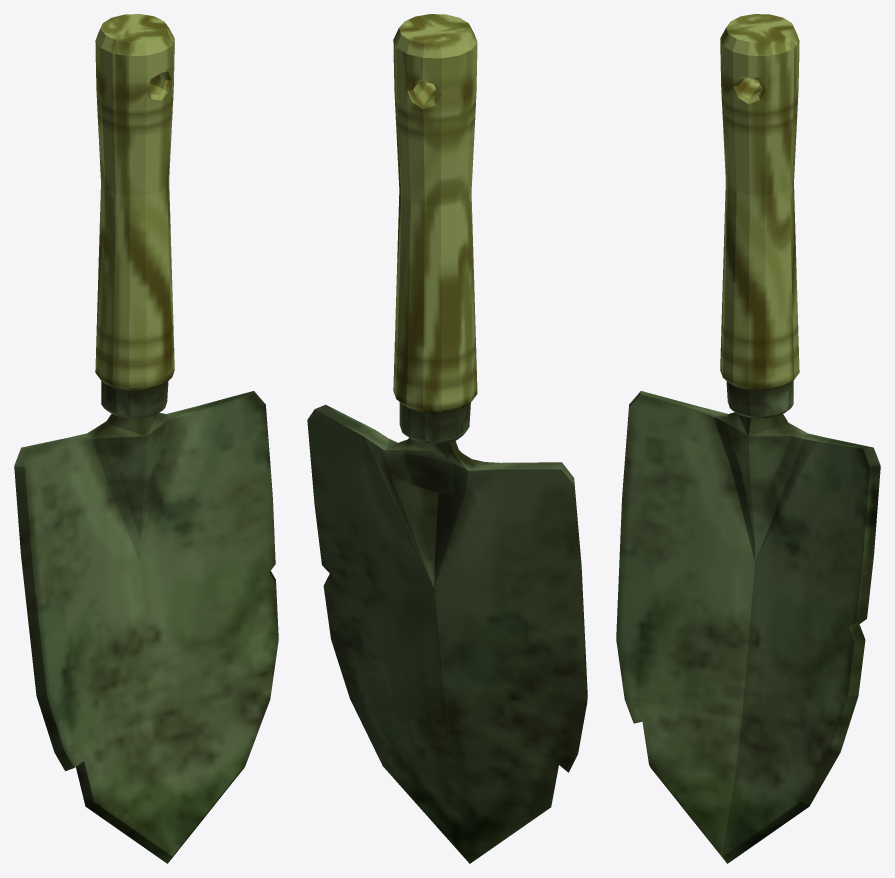
File: TrowelItem.fbx
3 views of the same model, side by side, from view 1: azimuth 30°, elevation 25°; view 2: azimuth 150°, elevation 25°; view 3: azimuth 330°, elevation 25° (orthographic). The views are drawn at different scales.
Visible parts, largest first — view 1: Trowel; view 2: Trowel; view 3: Trowel.
Boxes of the visible parts, bbox=[...] form: Trowel: bbox=[14, 14, 278, 863]; Trowel: bbox=[307, 14, 587, 863]; Trowel: bbox=[616, 14, 880, 863].
Size of the model in its own units: 114 by 351 by 44.34.
